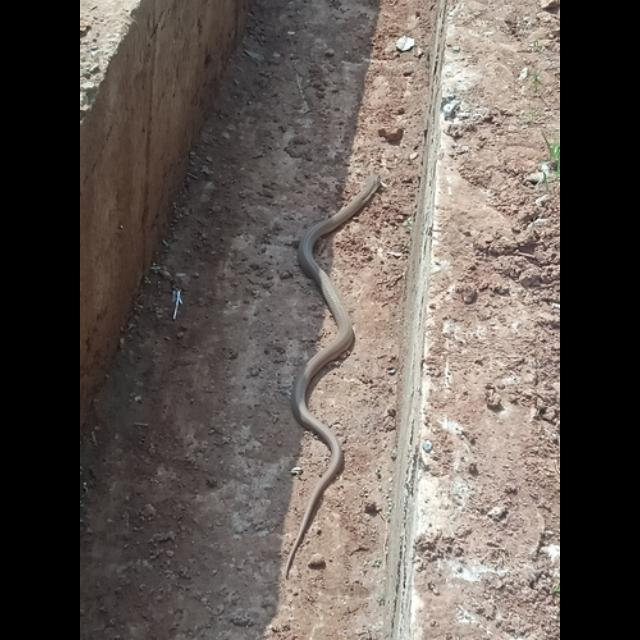snake: (291, 163, 384, 572)
